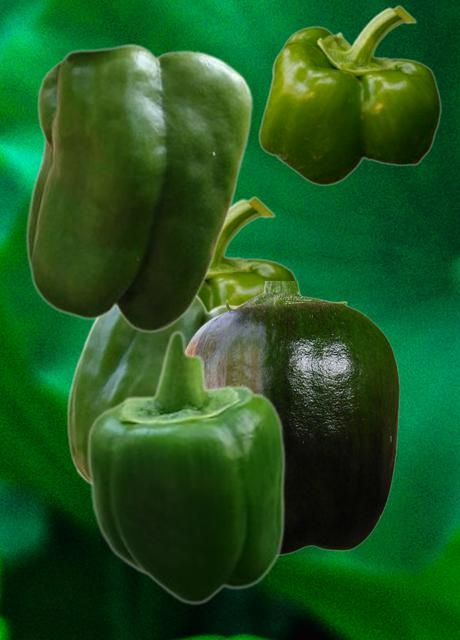bell_pepper: (25, 43, 253, 332), (187, 281, 399, 555), (86, 329, 285, 605), (258, 5, 440, 185), (66, 296, 238, 483), (200, 196, 302, 309)
